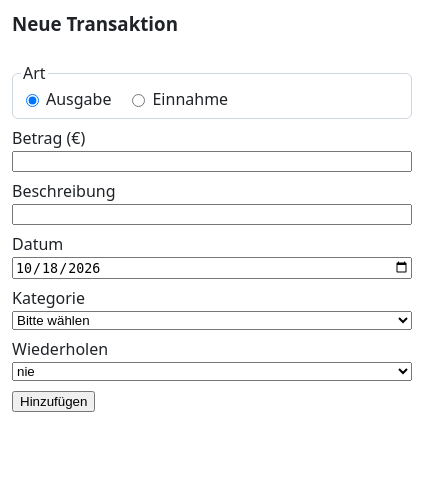
Test: TransactionForm › rejects a non-positive amount 0
The image size is (429, 501).
Step 1. Type "0" into the field labelled "Betrag (€)" → (212, 162), box [12, 151, 412, 172]
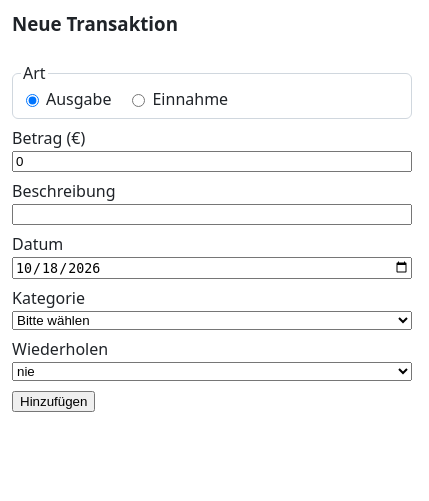
Step 2. Click the button "Hinzufügen" → (54, 401), box [12, 391, 95, 412]
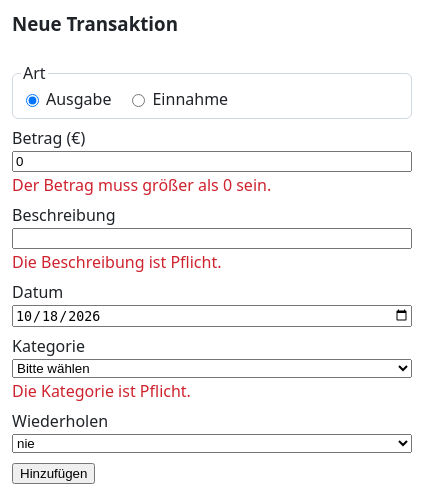
Check: the text "Der Betrag muss größer als 0 sein." is shown, box [12, 174, 271, 196]
